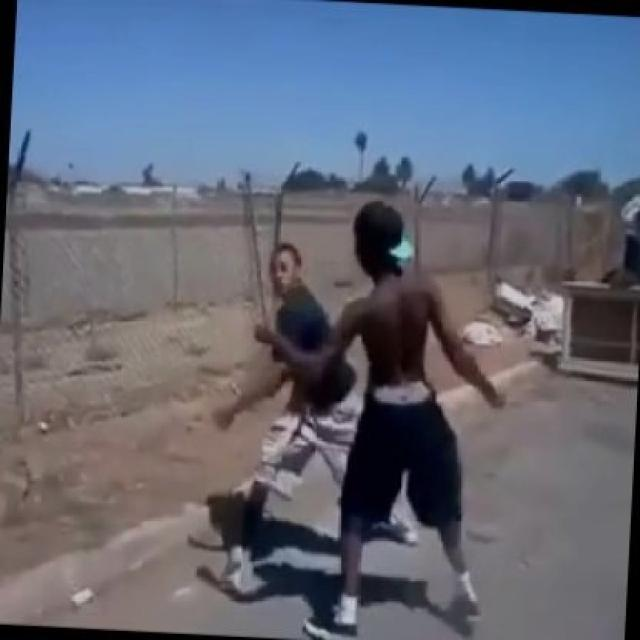fight: (169, 174, 549, 638)
